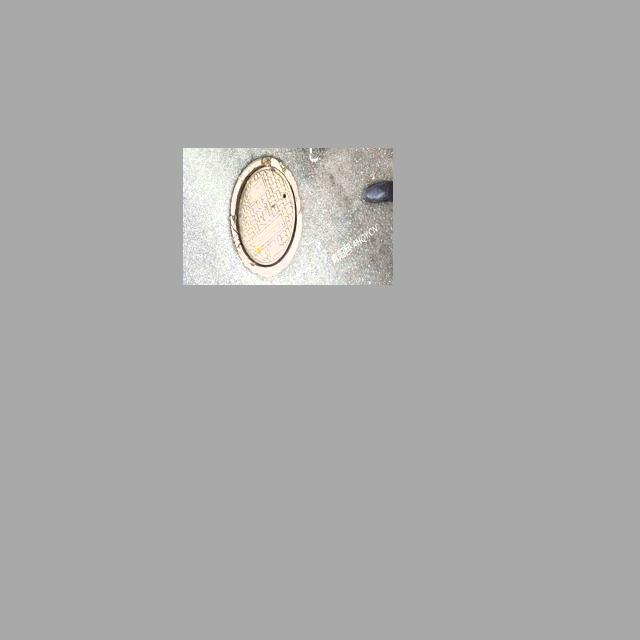circle: (217, 153, 308, 279)
